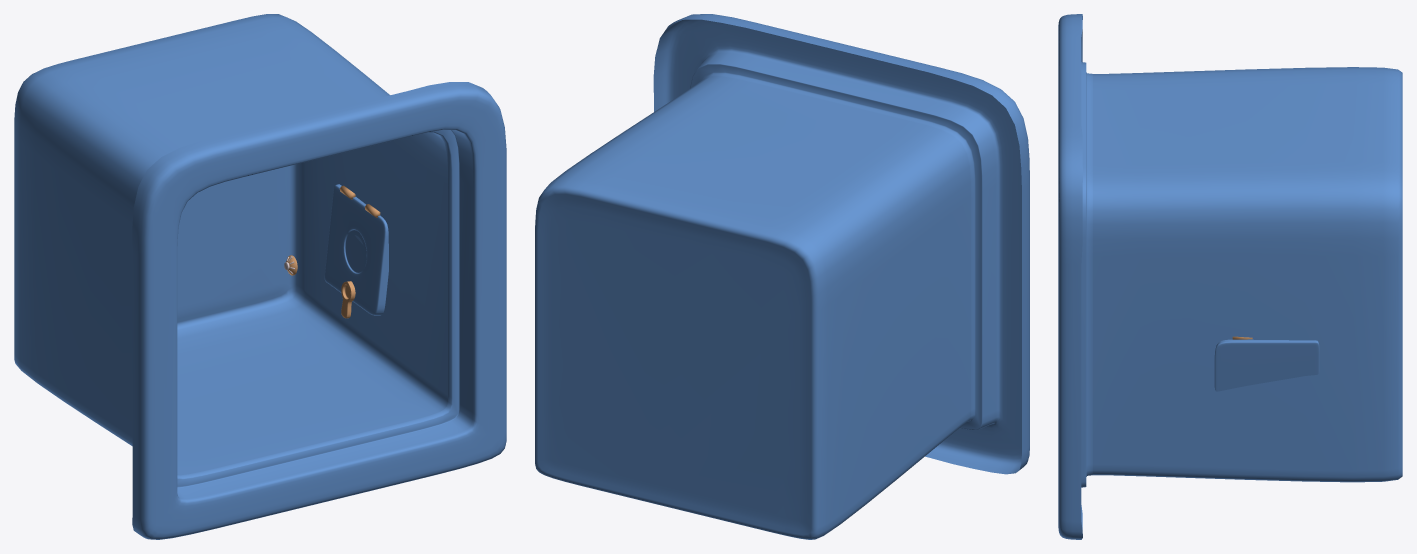
Rendered from IronSafe.fbx.
The picture shows the model from 3 angles, left to right: view 1: azimuth 30°, elevation 25°; view 2: azimuth 150°, elevation 25°; view 3: azimuth 270°, elevation 25°; orthographic projection.
Parts seen in each view (by area): view 1: Cube.001, Cube, Cube.003; view 2: Cube.001, Cube; view 3: Cube.001, Cube, Cube.003.
Part boxes in pixels (x1,y1,x2,y2): Cube.001: [14, 14, 447, 475]; Cube: [132, 82, 506, 539]; Cube.003: [324, 184, 388, 318]; Cube.001: [535, 76, 970, 539]; Cube: [653, 14, 1029, 474]; Cube.001: [1093, 67, 1402, 482]; Cube: [1058, 14, 1092, 539]; Cube.003: [1214, 336, 1319, 391].
Bounding box in the file's own units: 200 × 200 × 165.
